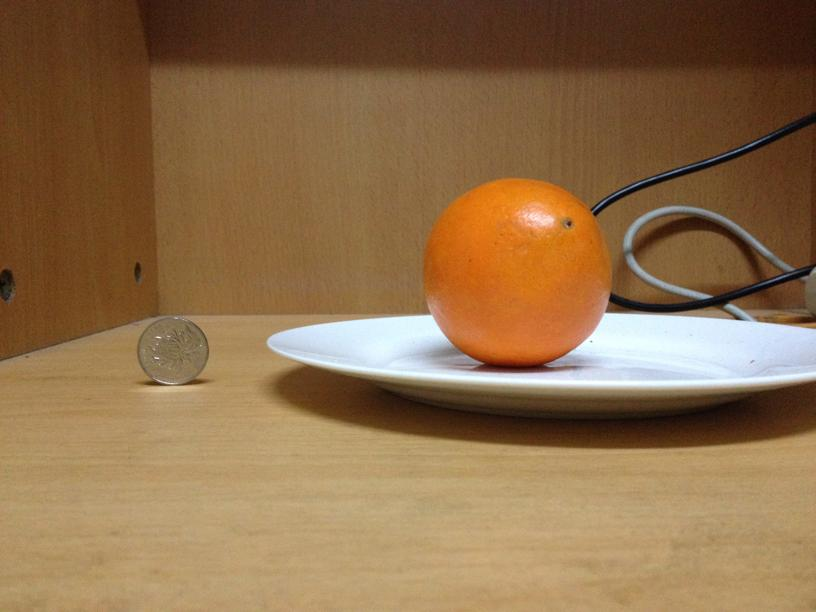coin: (134, 315, 208, 384)
orange: (422, 172, 612, 361)
